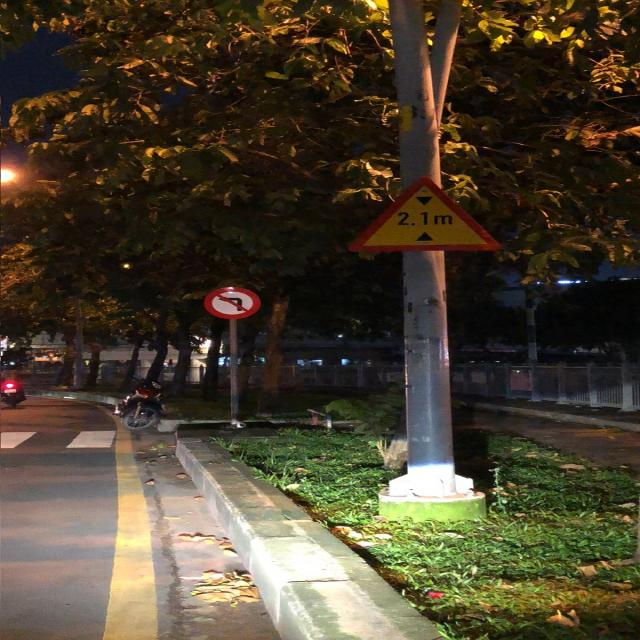Bien bao cam re trai: (201, 282, 265, 320)
Bien bao chieu cao tinh khong thuc te: (338, 174, 515, 259)
